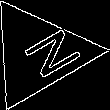N_SW: (3, 23, 75, 84)
